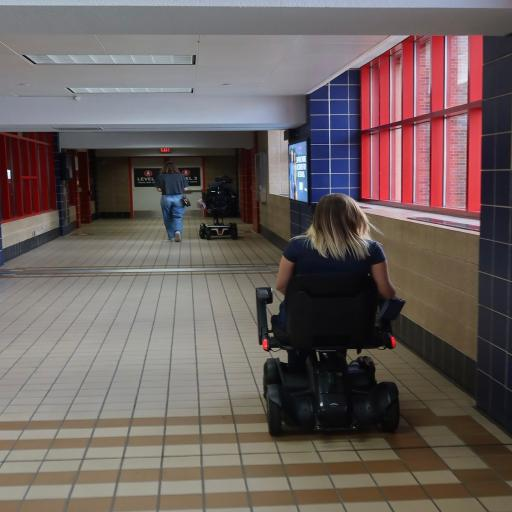laptop: (276, 194, 395, 298), (155, 162, 188, 241)
wheelchair: (256, 274, 404, 434), (199, 177, 237, 239)
